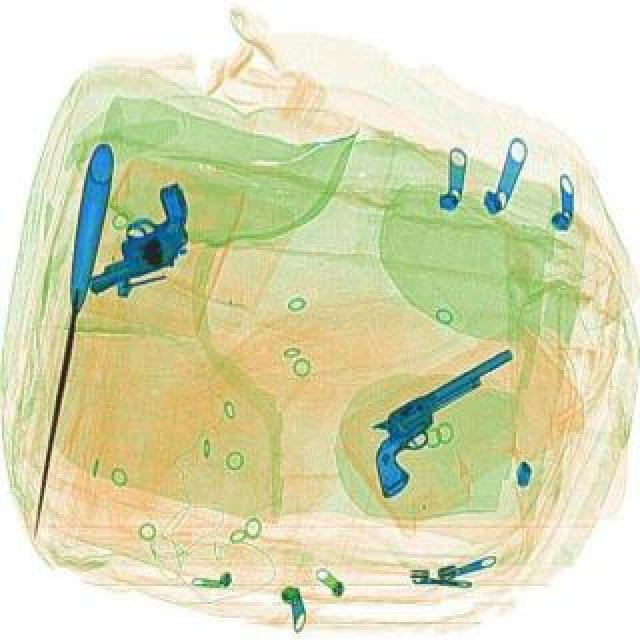gun: (342, 342, 548, 498), (64, 178, 206, 292)
knife: (20, 140, 118, 536)
